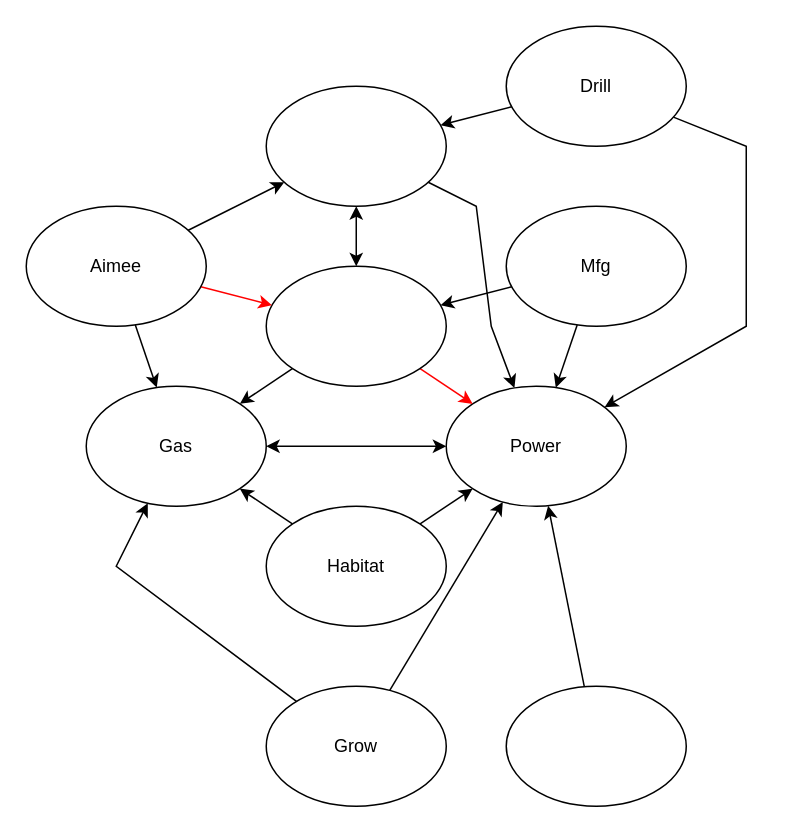
Image size: 785x833. Some labels were removed from this diagram. Each missing label, with the centre of its shape:
"Furnace" belongs at [355,325].
"Landing" belongs at [595,745].
"Ore" belongs at [355,145].
